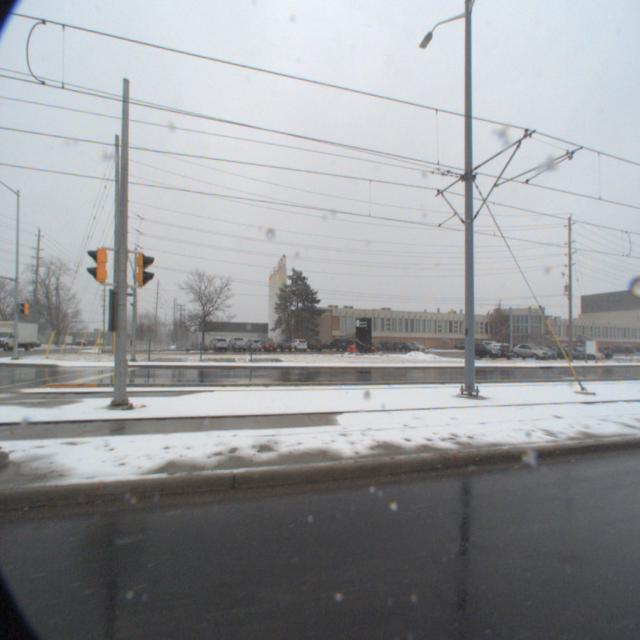Car: (510, 341, 554, 360), (474, 342, 518, 359), (205, 336, 227, 354), (224, 337, 246, 354), (256, 337, 276, 354)
